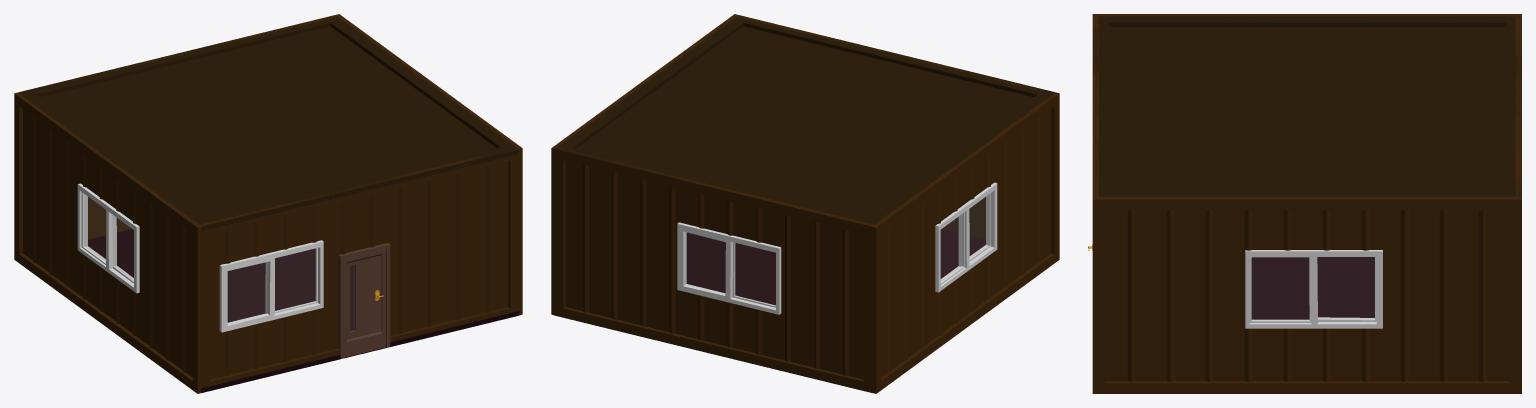
Rendered from 3D_08x08MedDoor.fbx.
The picture shows the model from 3 angles, left to right: view 1: azimuth 30°, elevation 25°; view 2: azimuth 150°, elevation 25°; view 3: azimuth 270°, elevation 25°; orthographic projection. The views are drawn at different scales.
Visible parts, largest first — view 1: Plane.028, Cube.042; view 2: Plane.028; view 3: Plane.028.
Part boxes in pixels (<box>): Plane.028: <box>14,14,522,393</box>; Cube.042: <box>343,249,386,357</box>; Plane.028: <box>551,14,1059,393</box>; Plane.028: <box>1092,14,1521,393</box>.
Bounding box in the file's own units: 818 × 400 × 809.
